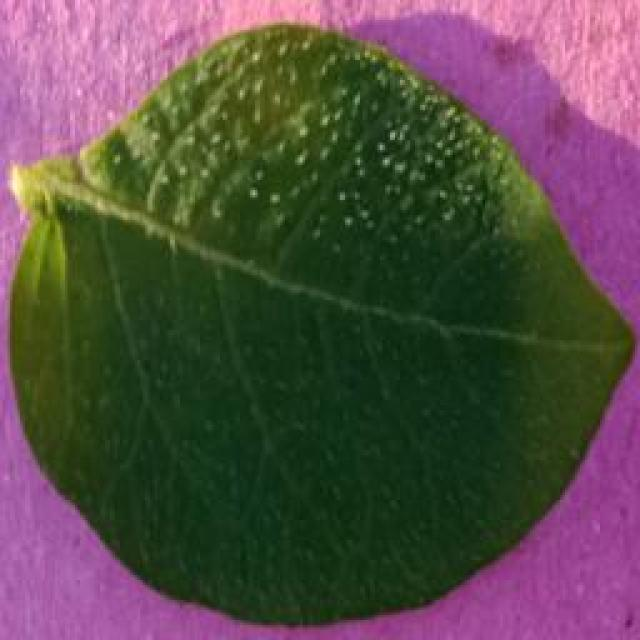Potato_Healthy: (5, 23, 626, 625)
